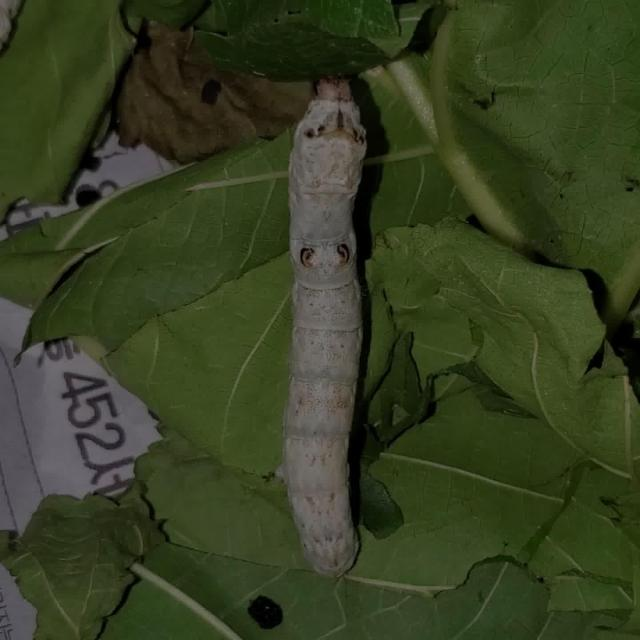Healthy: (268, 71, 390, 587)
